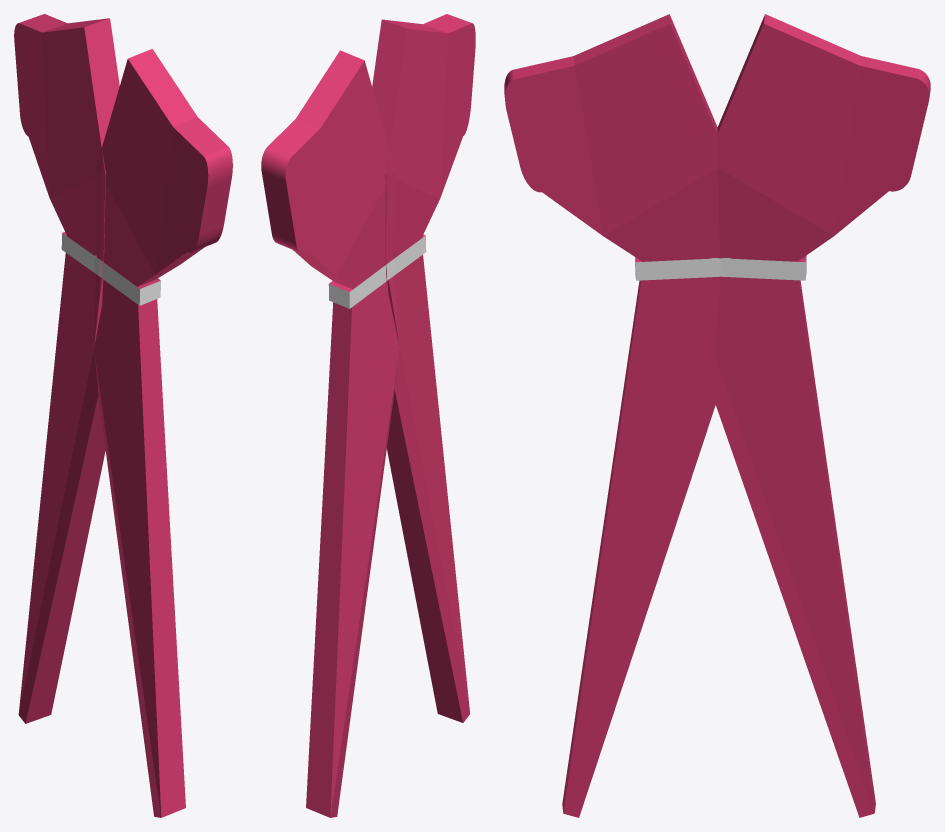
File: JumpSuit_Pink.fbx
3 renders of one model, left to right at view 1: azimuth 30°, elevation 25°; view 2: azimuth 150°, elevation 25°; view 3: azimuth 270°, elevation 25°, orthographic. The views are drawn at different scales.
Parts seen in each view (by area): view 1: Plane.005; view 2: Plane.005; view 3: Plane.005.
Part boxes in pixels (<box>): Plane.005: <box>14,14,232,817</box>; Plane.005: <box>261,14,475,817</box>; Plane.005: <box>504,14,930,817</box>.
Size of the model in its own units: 20.49 by 304 by 145.
